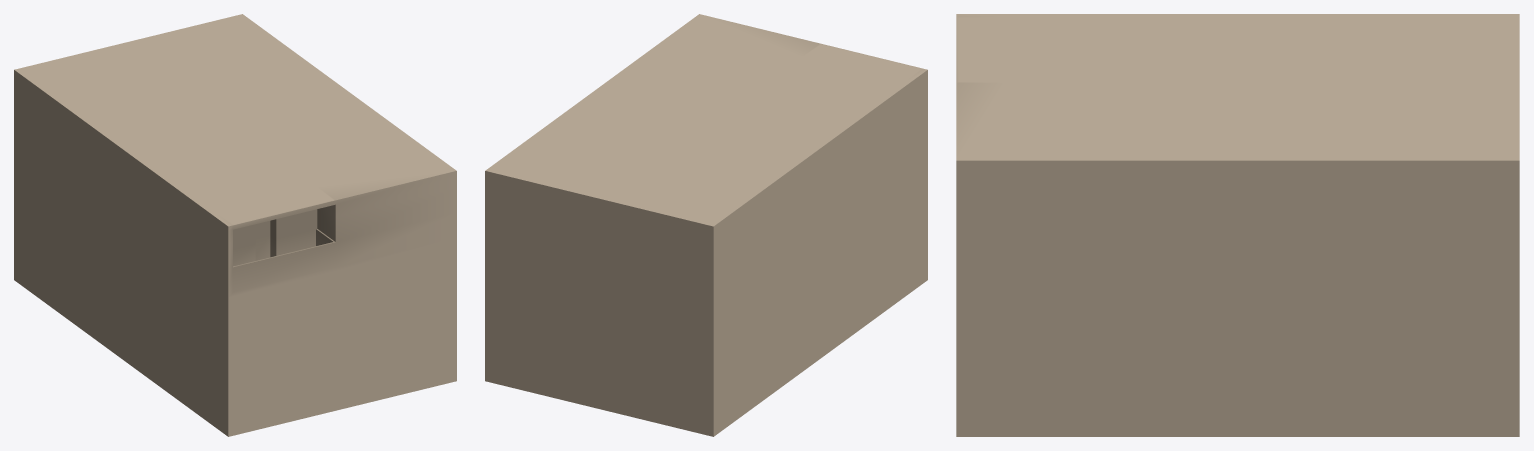
File: massing.glb
3 renders of one model, left to right at view 1: azimuth 30°, elevation 25°; view 2: azimuth 150°, elevation 25°; view 3: azimuth 270°, elevation 25°, orthographic. The views are drawn at different scales.
Visible parts, largest first — view 1: building/exterior; view 2: building/exterior; view 3: building/exterior.
Boxes of the visible parts, x1,y1,x2,y2 form: building/exterior: (14, 14, 456, 436); building/exterior: (485, 14, 927, 436); building/exterior: (956, 14, 1519, 436).
Size of the model in its own units: 10 by 8.8 by 16.24.
